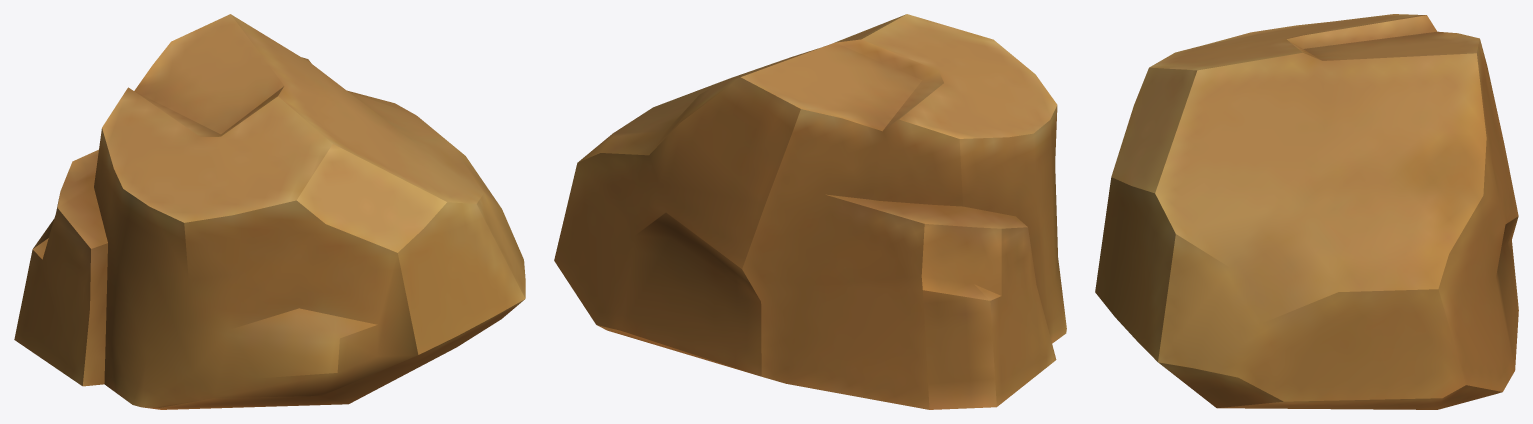
The model's file is rockdes2.glb.
3 views of the same model, side by side, from view 1: azimuth 30°, elevation 25°; view 2: azimuth 150°, elevation 25°; view 3: azimuth 270°, elevation 25° (orthographic). The views are drawn at different scales.
Parts seen in each view (by area): view 1: Rock_Medium_2; view 2: Rock_Medium_2; view 3: Rock_Medium_2.
Boxes of the visible parts, box(x1,y1,x2,y2) form: Rock_Medium_2: box(14, 14, 525, 409); Rock_Medium_2: box(554, 14, 1066, 409); Rock_Medium_2: box(1095, 14, 1518, 409).
Bounding box in the file's own units: 3.05 × 1.9 × 2.48.
Materials: 1 (1 with a texture image).
